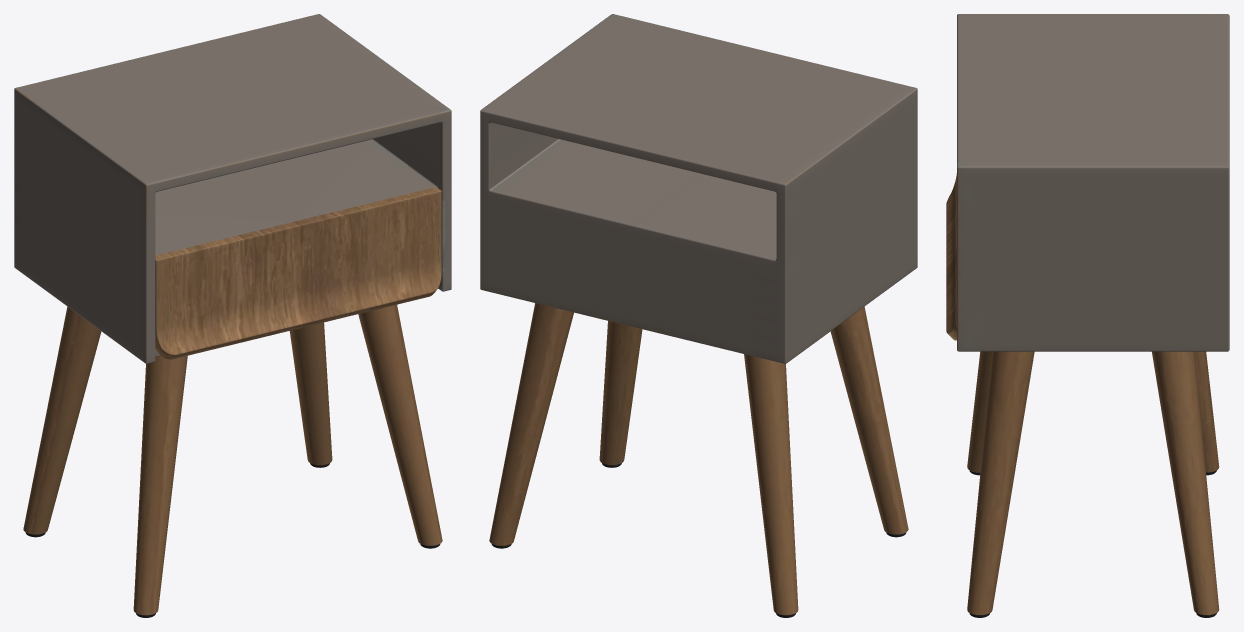
Rendered from abo-B072ZMHBKQ.glb.
3 renders of one model, left to right at view 1: azimuth 30°, elevation 25°; view 2: azimuth 150°, elevation 25°; view 3: azimuth 270°, elevation 25°, orthographic. The views are drawn at different scales.
Bounding box in the file's own units: 0.37 × 0.508 × 0.288.
1 material, 1 textured.
